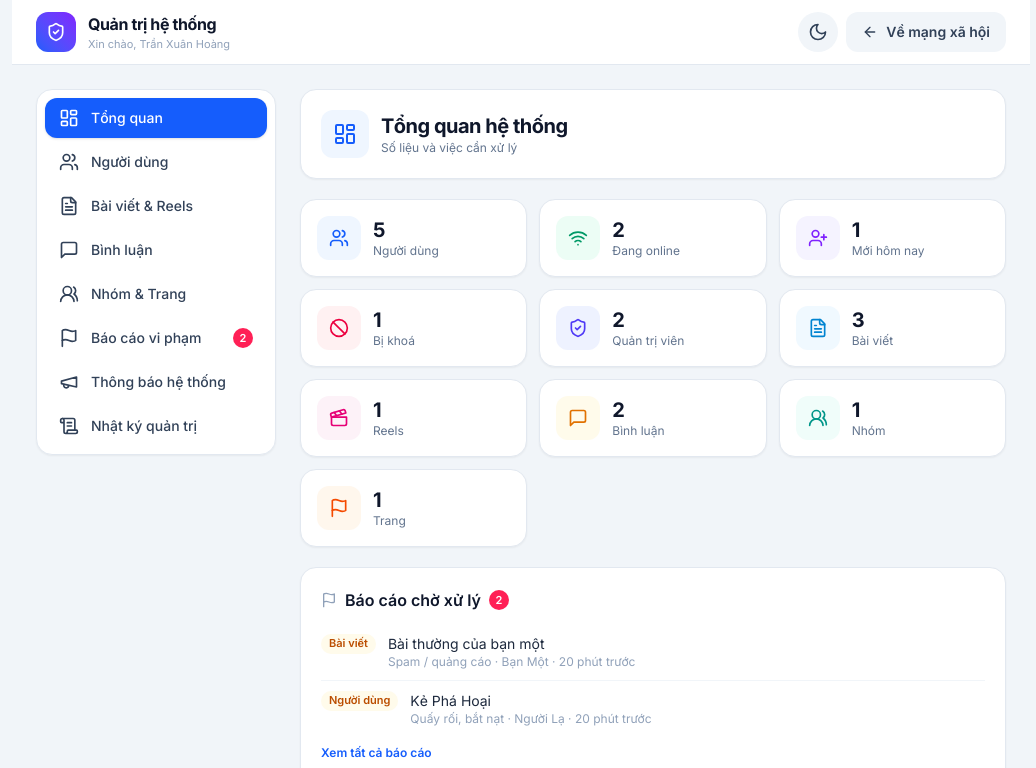
Scenario: Bố cục khu quản trị › chuyển trang bằng menu
The image size is (1036, 768).
Click the link "Nhật ký quản trị" at (128, 426), box [59,416,197,436]
(page scrolled)
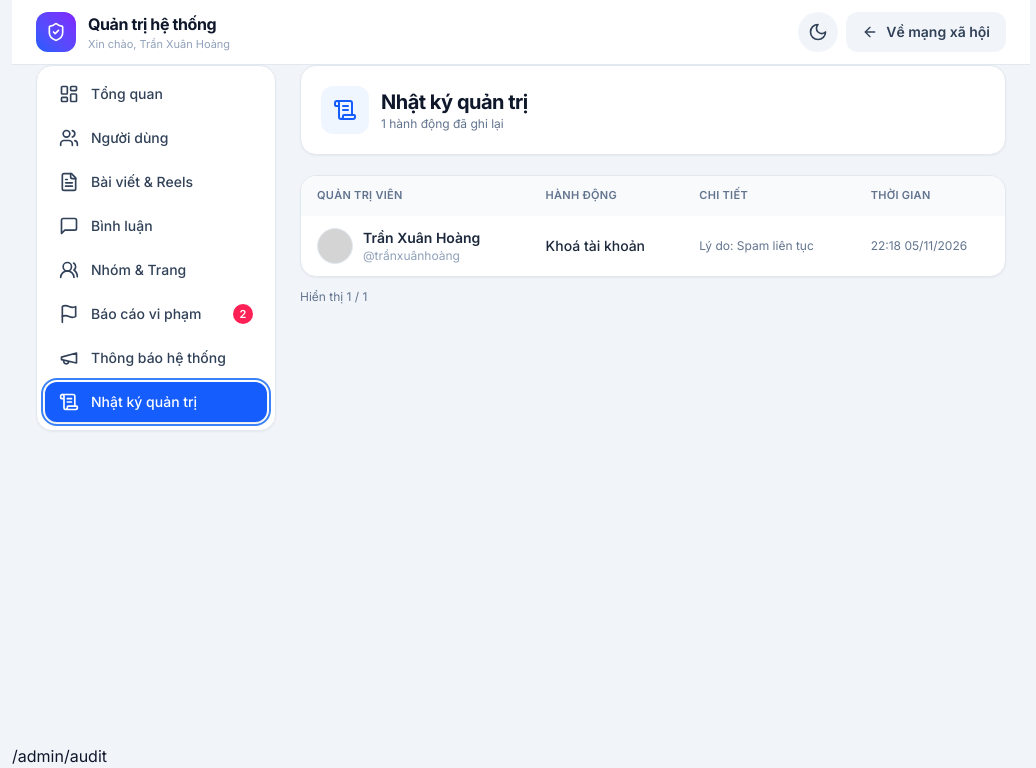
Expected: the text with test id "location" reads "/admin/audit", [12,746,107,766]
